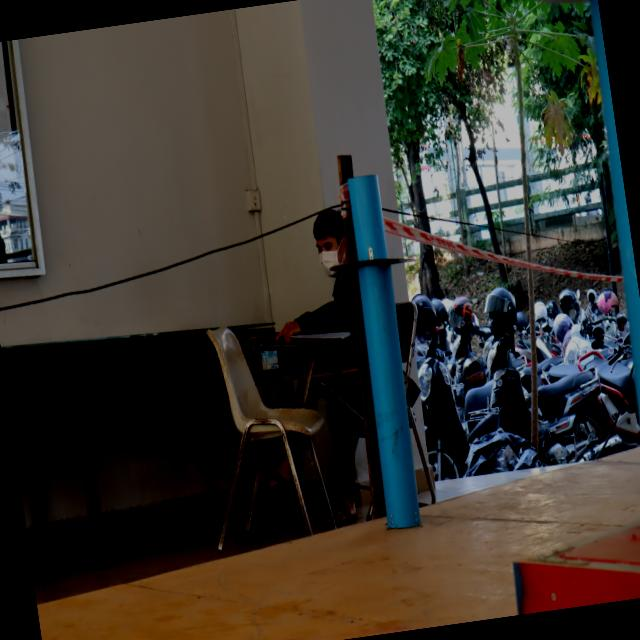pole: (312, 163, 436, 370)
